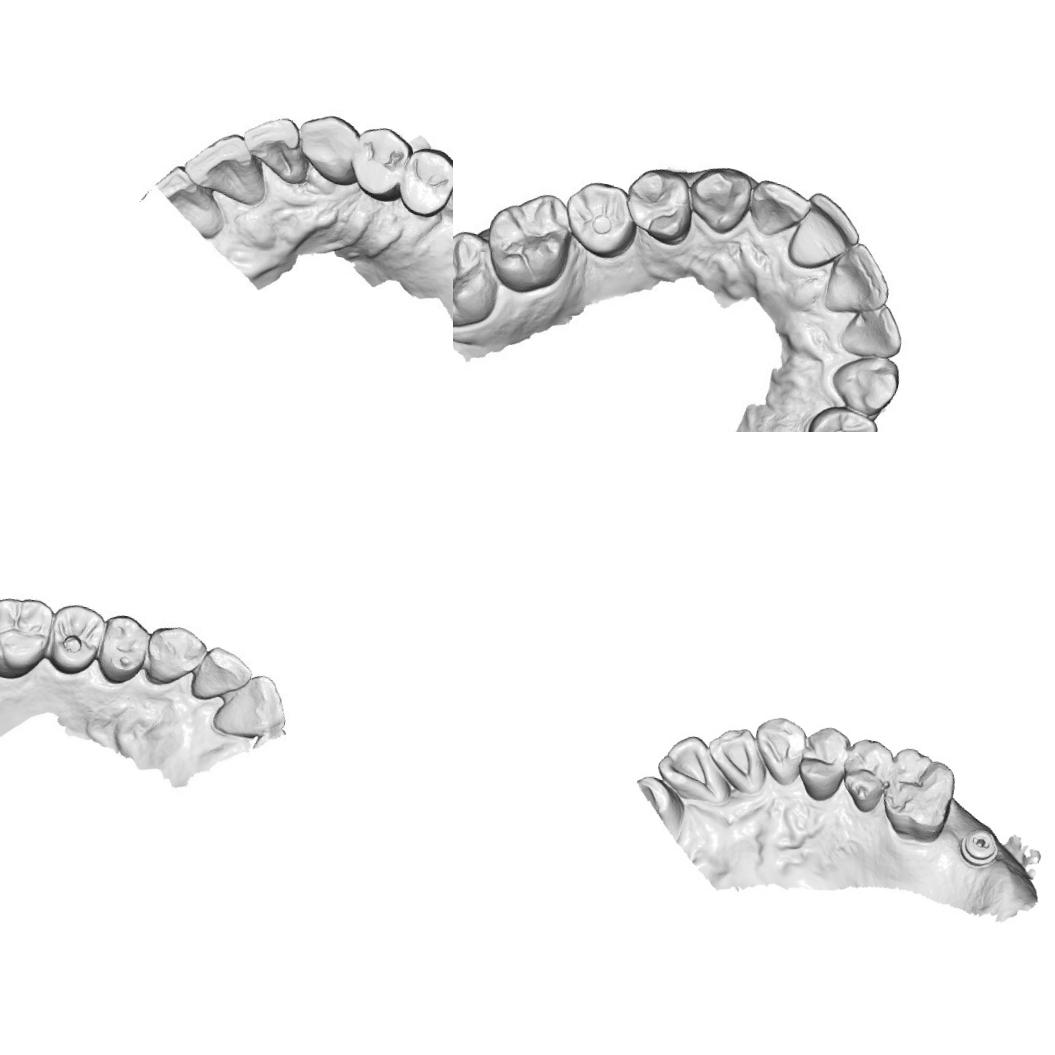canine: (294, 104, 366, 184), (745, 711, 812, 790), (824, 348, 900, 416), (689, 159, 755, 234), (140, 620, 206, 691), (690, 165, 756, 234)
implant_minus: (951, 822, 1004, 872)
incisor: (182, 128, 282, 212), (650, 728, 741, 808), (210, 666, 290, 745), (789, 188, 863, 271), (822, 240, 898, 319), (698, 720, 774, 798), (243, 112, 314, 183), (188, 640, 257, 708), (748, 174, 811, 240), (844, 298, 904, 361)
molar: (471, 185, 585, 302), (874, 743, 962, 848), (453, 218, 511, 336), (0, 585, 61, 686), (801, 400, 885, 432)
premolar: (558, 170, 647, 264), (618, 161, 702, 250), (346, 122, 418, 208), (40, 594, 112, 680), (790, 721, 854, 807), (834, 734, 898, 818), (90, 609, 152, 689), (395, 144, 453, 226)
